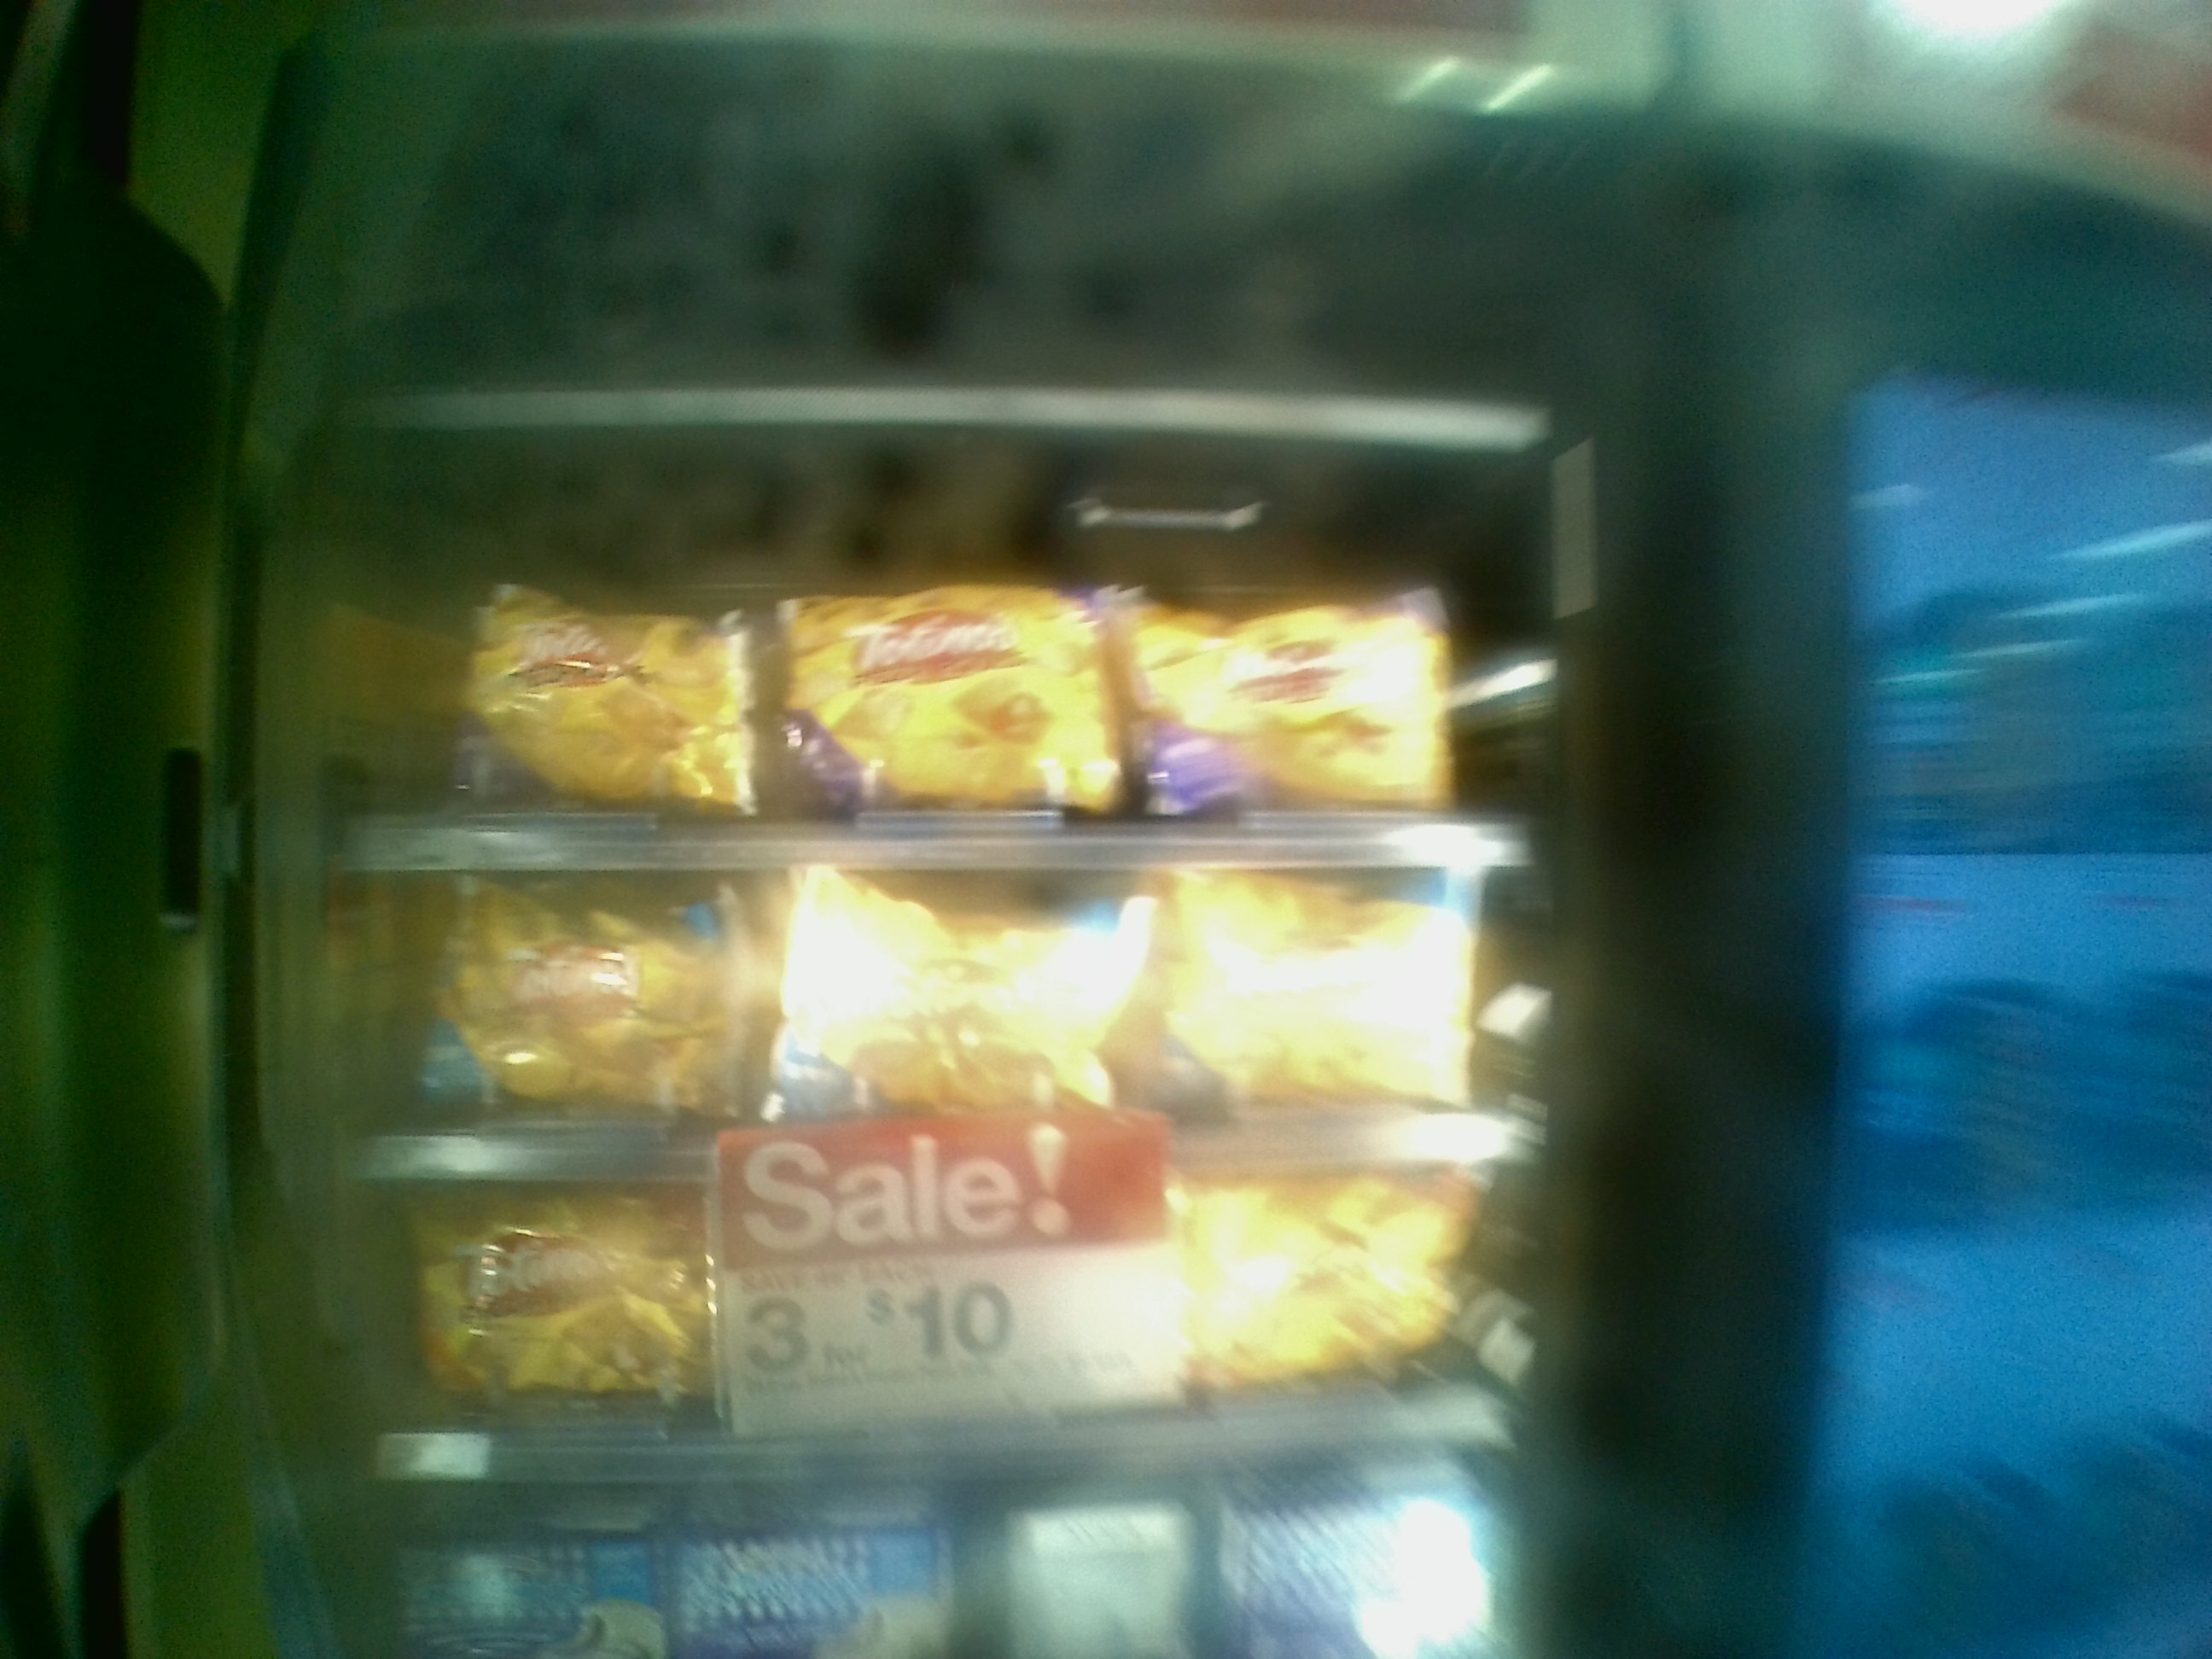shelf: (307, 396, 1566, 878), (301, 859, 1555, 1180), (312, 1169, 1554, 1474)
